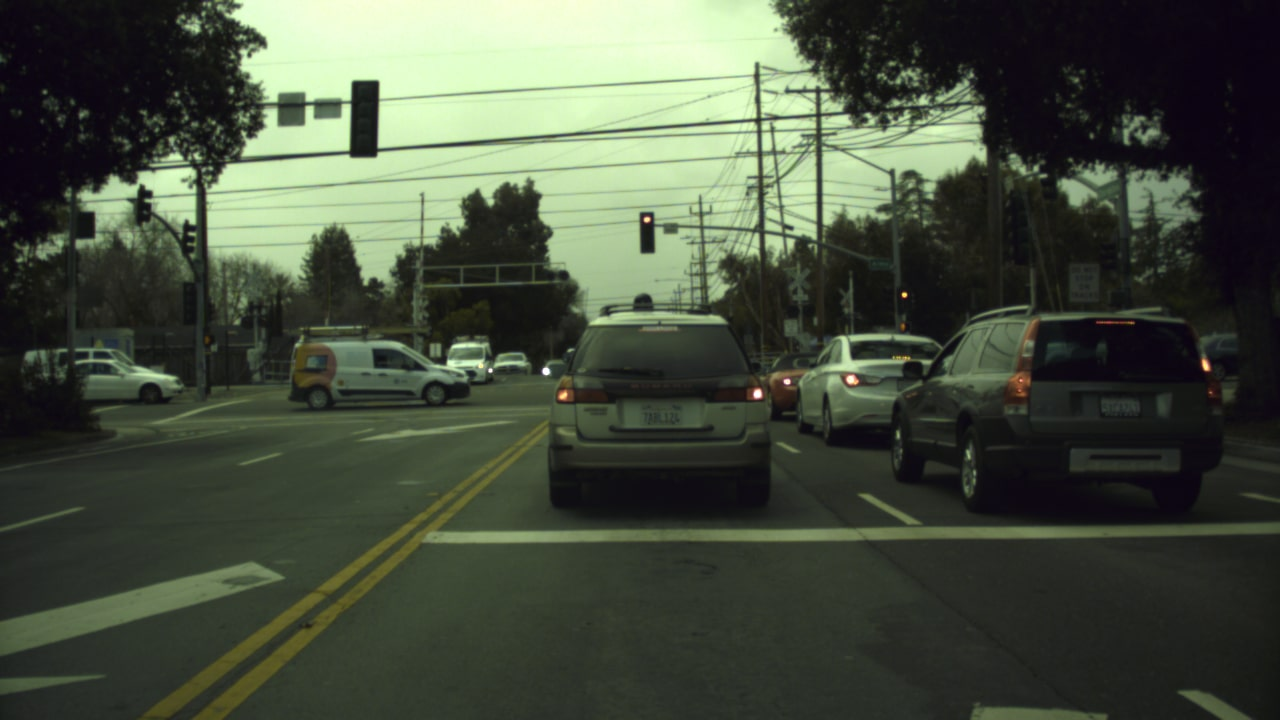signal: (639, 211, 653, 256), (896, 288, 907, 306)
